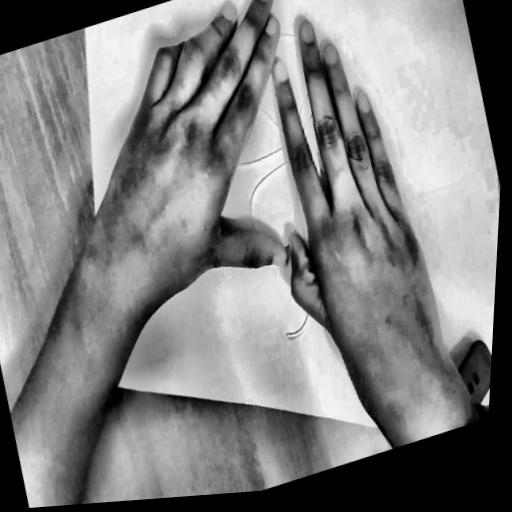bottom_right: (100, 374, 113, 391)
flower: (192, 8, 383, 369)
